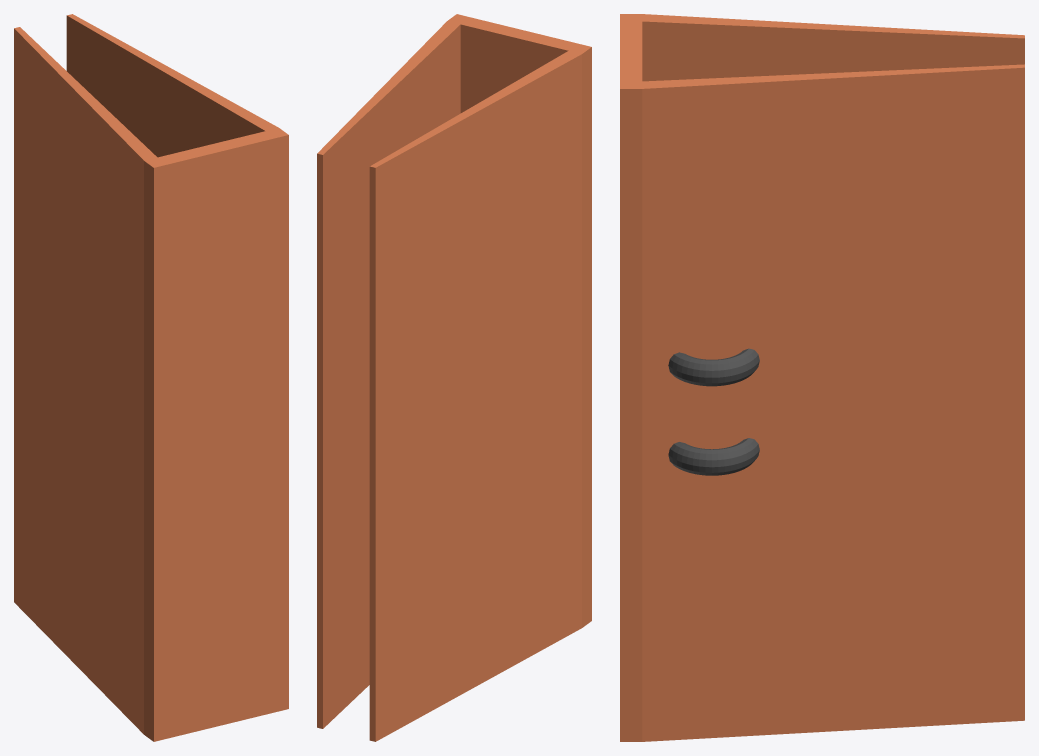
The model's file is Aktenordner.fbx.
3 views of the same model, side by side, from view 1: azimuth 30°, elevation 25°; view 2: azimuth 150°, elevation 25°; view 3: azimuth 270°, elevation 25° (orthographic). The views are drawn at different scales.
Parts seen in each view (by area): view 1: Cube; view 2: Cube; view 3: Cube, Torus.002, Torus.001.
Boxes of the visible parts, x1,y1,x2,y2 form: Cube: (14,14,288,741); Cube: (317,14,591,741); Cube: (620,14,1024,741); Torus.002: (668,348,759,386); Torus.001: (668,438,759,475).
Bounding box in the file's own units: 0.0916 × 0.325 × 0.1827.
